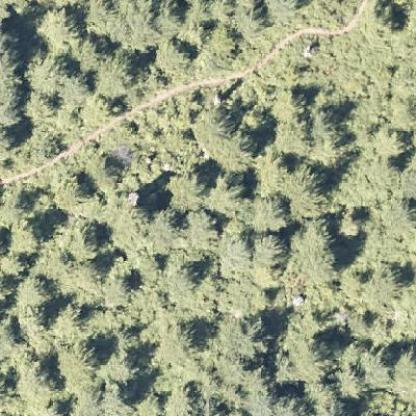tree-top: (186, 108, 258, 171), (291, 215, 340, 280), (86, 45, 138, 100), (7, 270, 57, 316), (60, 213, 106, 262), (21, 350, 70, 396), (247, 227, 291, 270), (46, 166, 92, 207), (9, 213, 48, 257), (372, 256, 415, 291), (71, 334, 109, 372)
